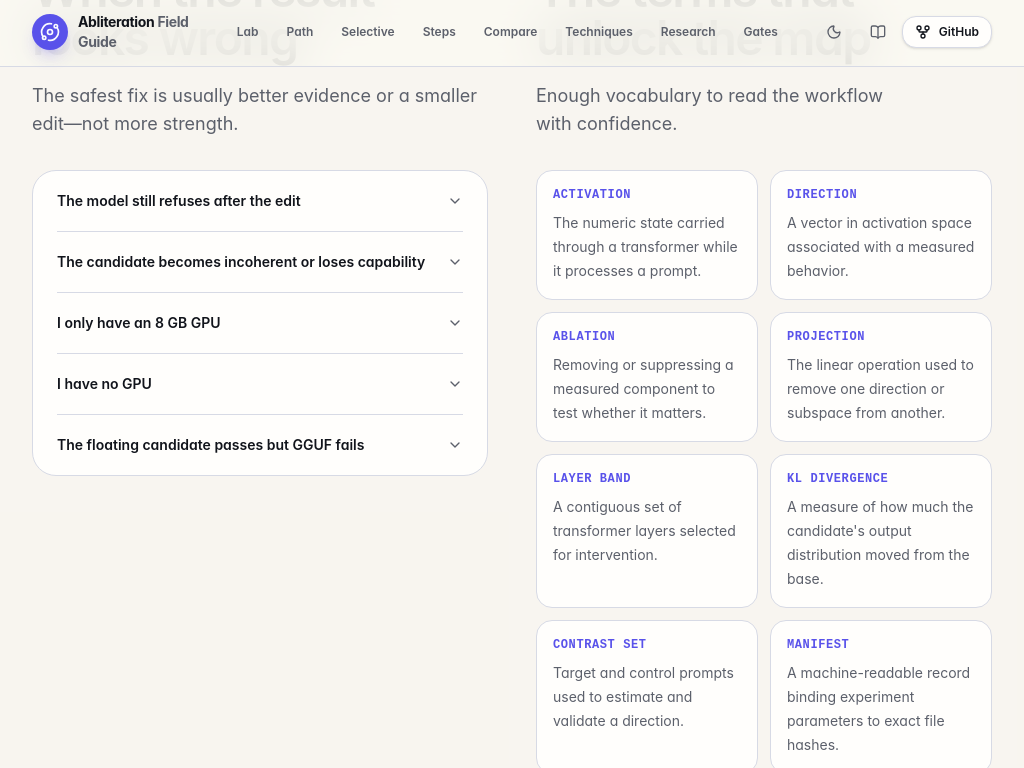
it: Abliteration Field Guide › expands the no-GPU FAQ toward the C++26 toy lab
The image size is (1024, 768).
(page scrolled)
What coordinates should you click on to do the following:
click the button "I have no GPU"
I would click on:
 (104, 384)
Its box is [57,354,463,414].
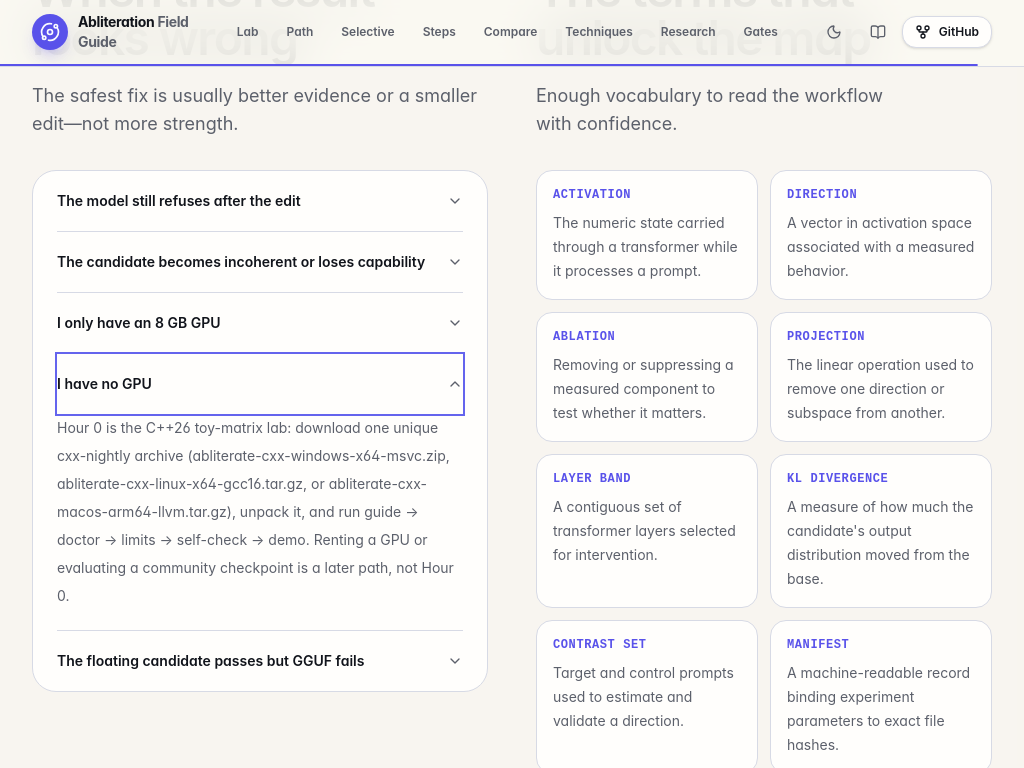
Check: the button "I have no GPU" is expanded, box [57,354,463,414]
